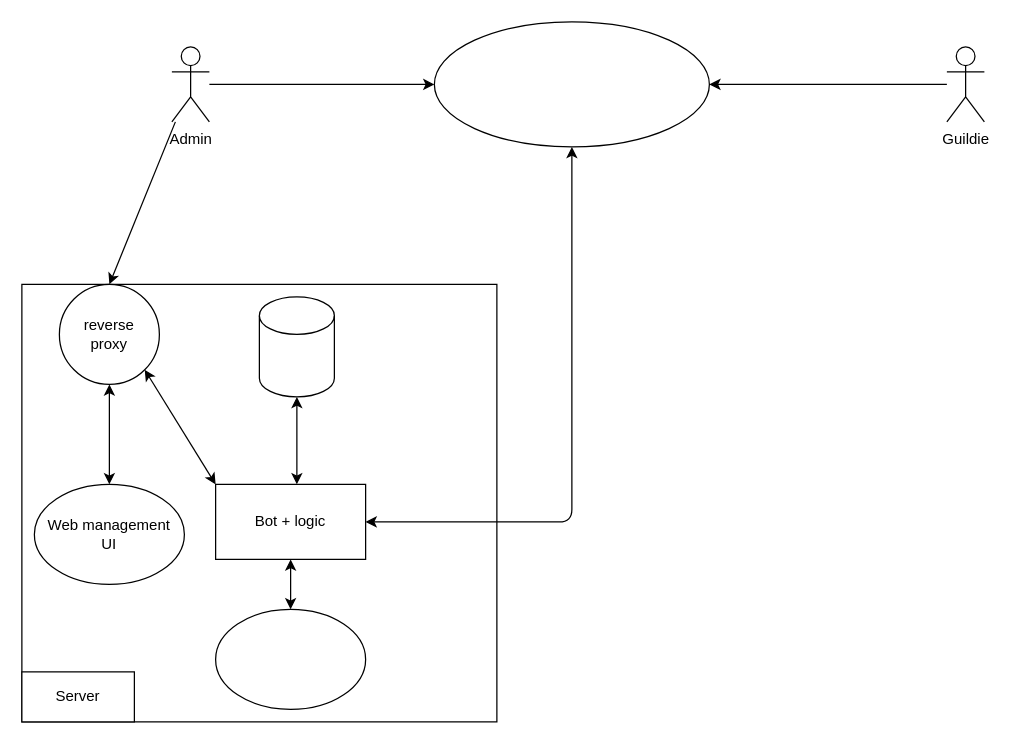
Image size: 1010x744. Some labels were removed from this diagram. Each missing label, with the centre of its shape:
Chart Maker: the point at 290,658
Data: the point at 296,346
Discord servers slash commands /login /culvert: the point at 571,84
